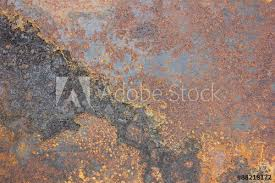rust: (2, 2, 274, 182)
